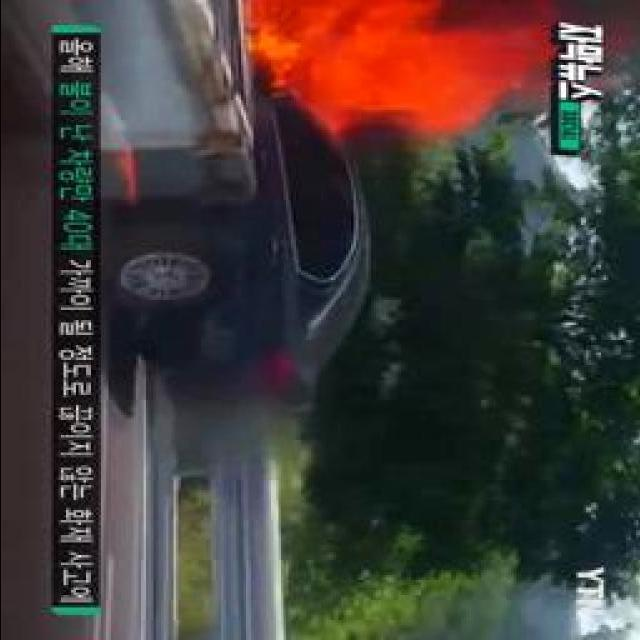Fire: (243, 0, 556, 141)
